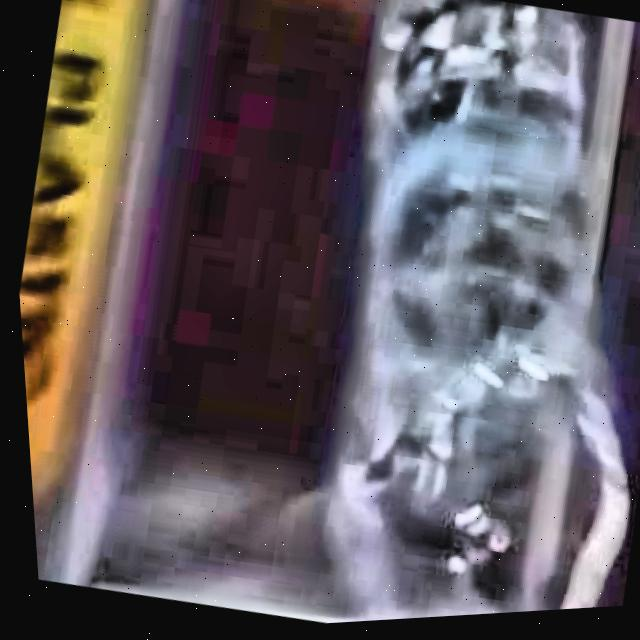plastic: (315, 0, 619, 625)
